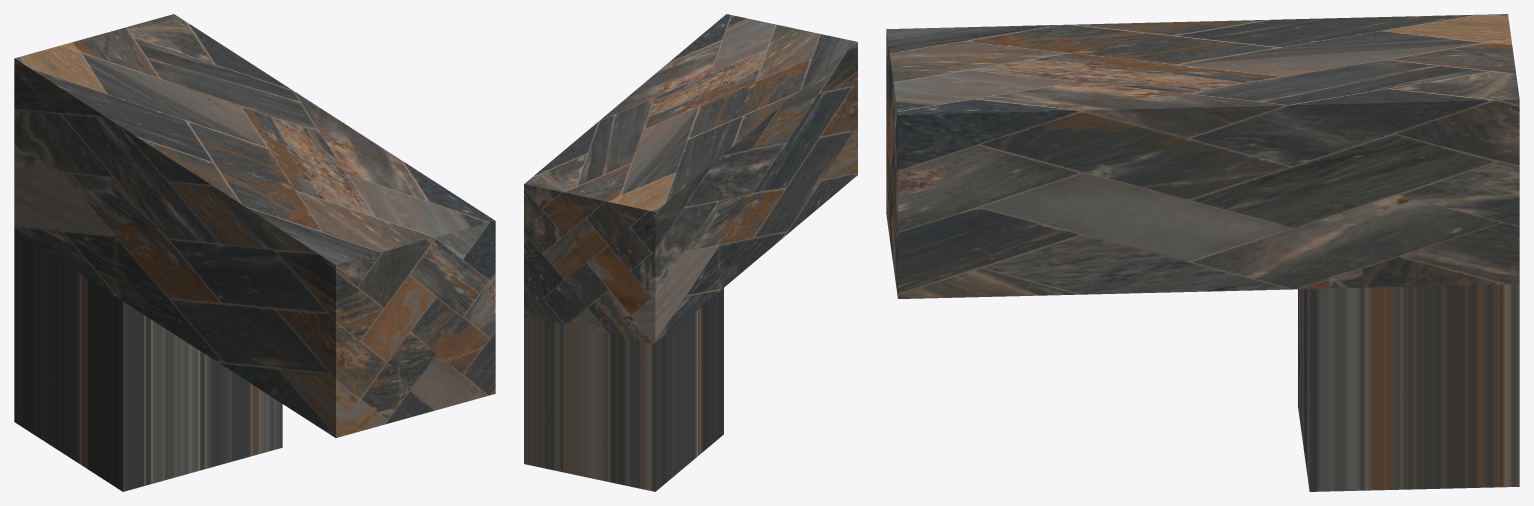
File: val_gun.obj
3 renders of one model, left to right at view 1: azimuth 30°, elevation 25°; view 2: azimuth 150°, elevation 25°; view 3: azimuth 270°, elevation 25°, orthographic. The views are drawn at different scales.
Parts seen in each view (by area): view 1: Cube.004; view 2: Cube.004; view 3: Cube.004.
Part boxes in pixels (x1=…): Cube.004: x1=14, y1=14, x2=495, y2=491; Cube.004: x1=524, y1=14, x2=857, y2=491; Cube.004: x1=886, y1=14, x2=1519, y2=491.
Bounding box in the file's own units: 0.4056 × 0.7255 × 1.08.
Materials: 1 (1 with a texture image).
